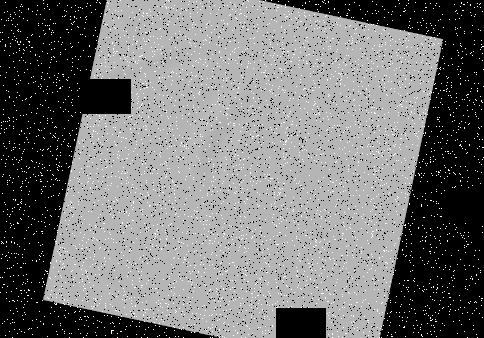Hyperbola: (127, 0, 418, 338)
